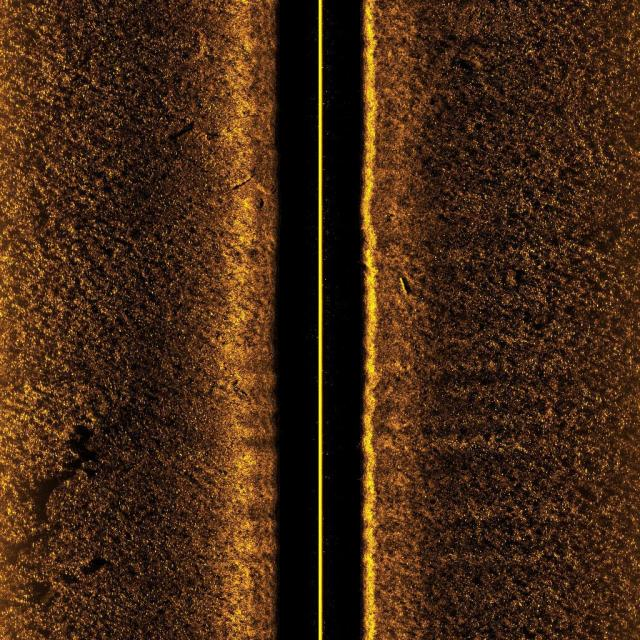mine: (389, 272, 417, 304)
